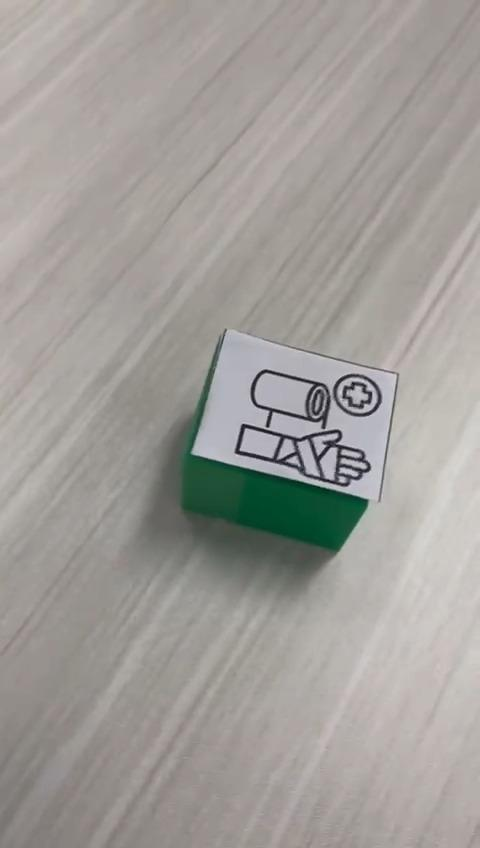Bandages: (182, 328, 400, 551)
